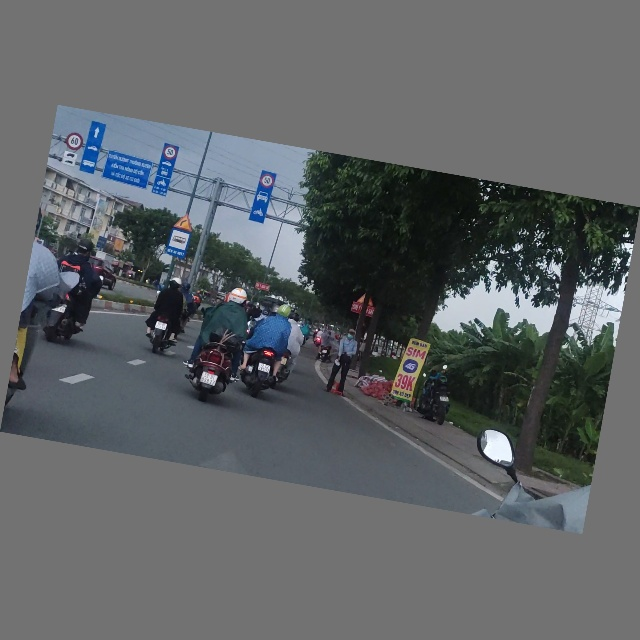I.434a: (165, 229, 191, 259)
P.127*50: (258, 173, 275, 189), (162, 145, 178, 161)
P.127*60: (65, 132, 84, 152)
S.505a*Xe tai va cong: (61, 150, 77, 167)
W.201b: (173, 212, 194, 233)
